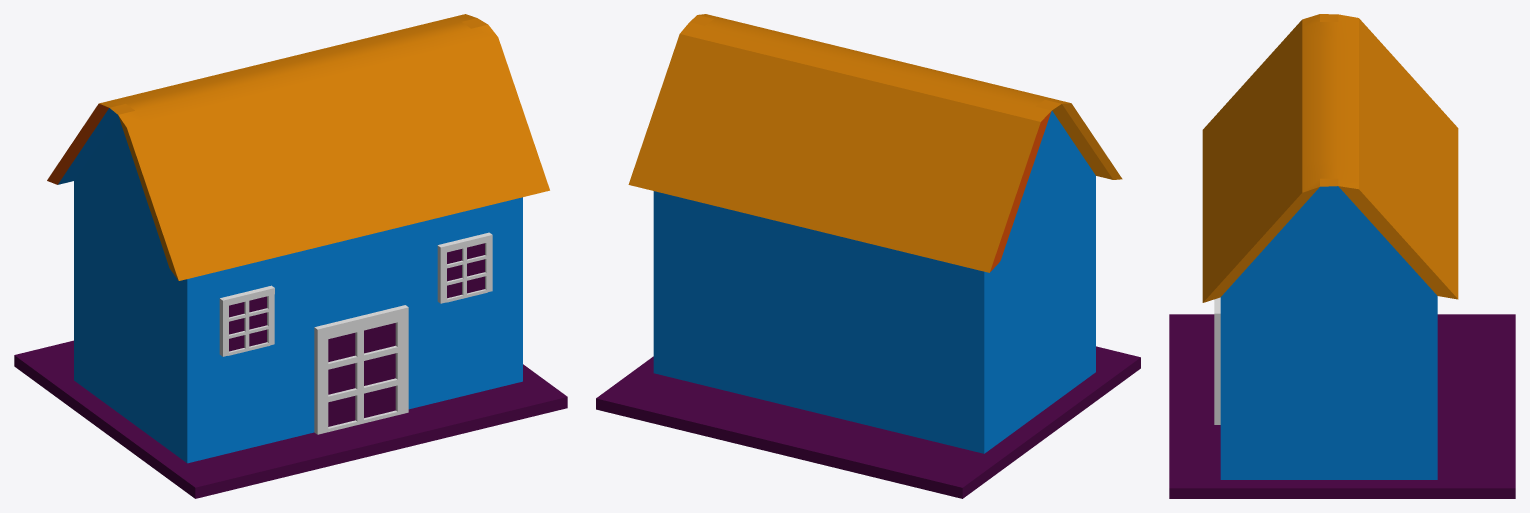
File: level14.fbx
The picture shows the model from 3 angles, left to right: view 1: azimuth 30°, elevation 25°; view 2: azimuth 150°, elevation 25°; view 3: azimuth 270°, elevation 25°; orthographic projection. The views are drawn at different scales.
Visible parts, largest first — view 1: hut; view 2: hut; view 3: hut.
Boxes of the visible parts, x1,y1,x2,y2 form: hut: [14, 14, 567, 498]; hut: [596, 14, 1140, 498]; hut: [1169, 14, 1515, 498].
Size of the model in its own units: 10.28 by 8.6 by 8.66.
